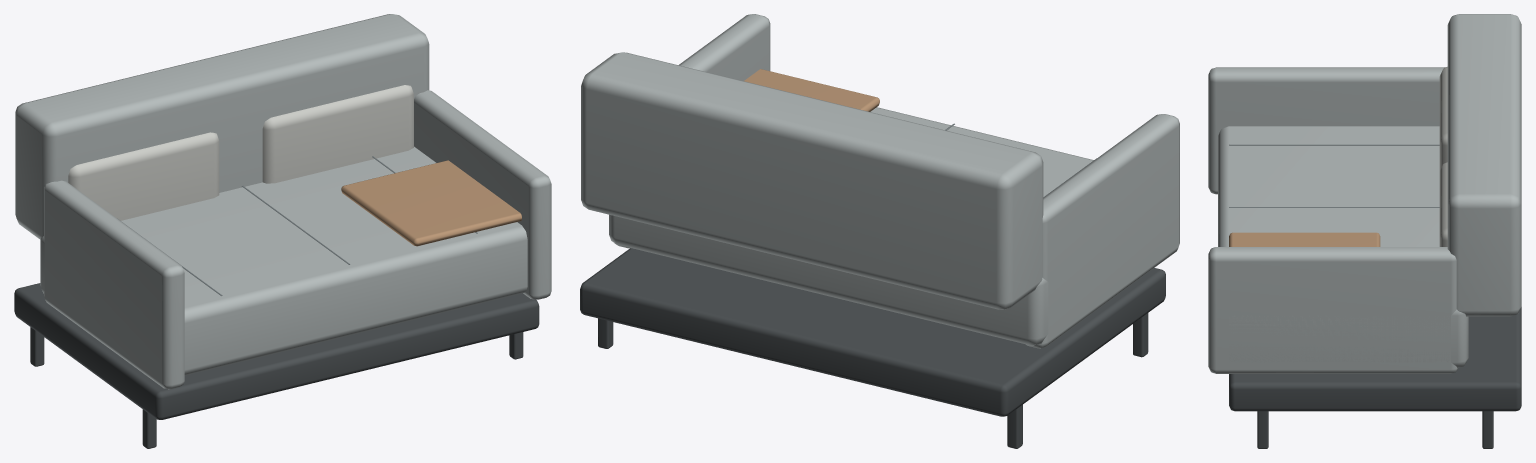
File: compact-sofa-bed.glb
3 views of the same model, side by side, from view 1: azimuth 30°, elevation 25°; view 2: azimuth 150°, elevation 25°; view 3: azimuth 270°, elevation 25° (orthographic). The views are drawn at different scales.
Visible parts, largest first — view 1: Tubular frame; view 2: Tubular frame; view 3: Tubular frame.
Part boxes in pixels (x1=…): Tubular frame: x1=14, y1=14, x2=551, y2=448; Tubular frame: x1=580, y1=14, x2=1179, y2=448; Tubular frame: x1=1208, y1=14, x2=1521, y2=448.
Bounding box in the file's own units: 1.4 × 0.87 × 0.975.
